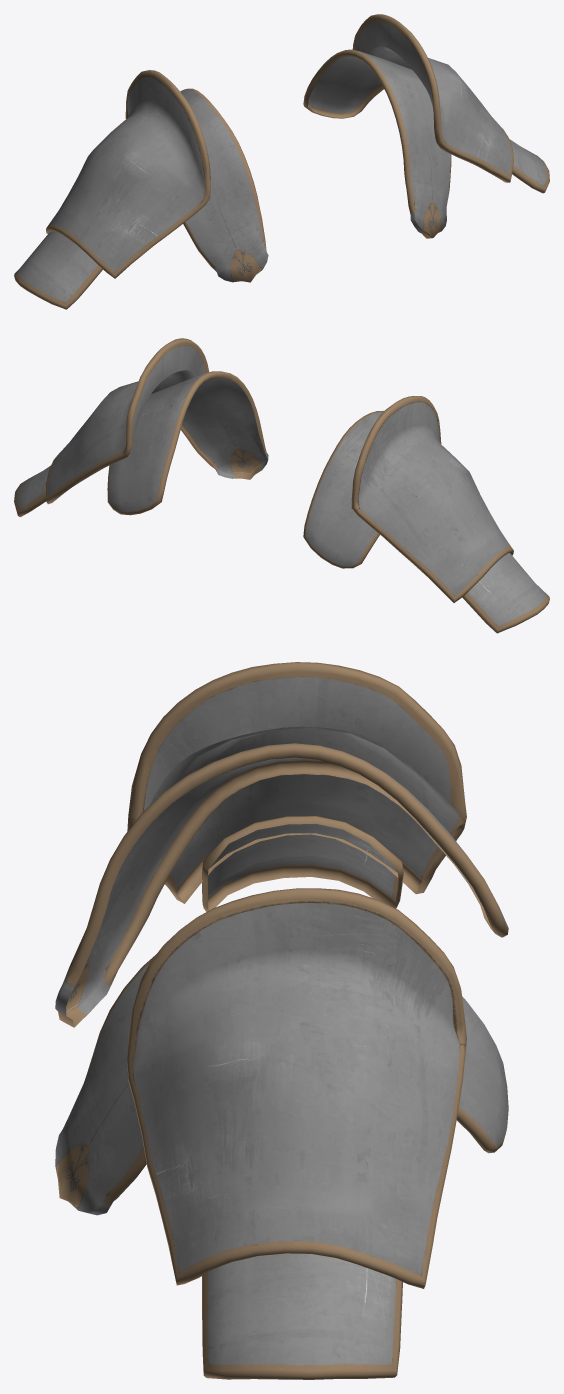
File: swan_knight_pauldrons_a1.fbx
The picture shows the model from 3 angles, top to bottom: view 1: azimuth 30°, elevation 25°; view 2: azimuth 150°, elevation 25°; view 3: azimuth 270°, elevation 25°; orthographic projection. The views are drawn at different scales.
Parts seen in each view (by area): view 1: swan_knight_pauldrons_a1; view 2: swan_knight_pauldrons_a1; view 3: swan_knight_pauldrons_a1.
Boxes of the visible parts, x1,y1,x2,y2 form: swan_knight_pauldrons_a1: [14, 14, 549, 309]; swan_knight_pauldrons_a1: [14, 338, 549, 633]; swan_knight_pauldrons_a1: [55, 662, 508, 1379].
Size of the model in its own units: 0.7953 by 0.301 by 0.271.
Materials: 1 (1 with a texture image).
